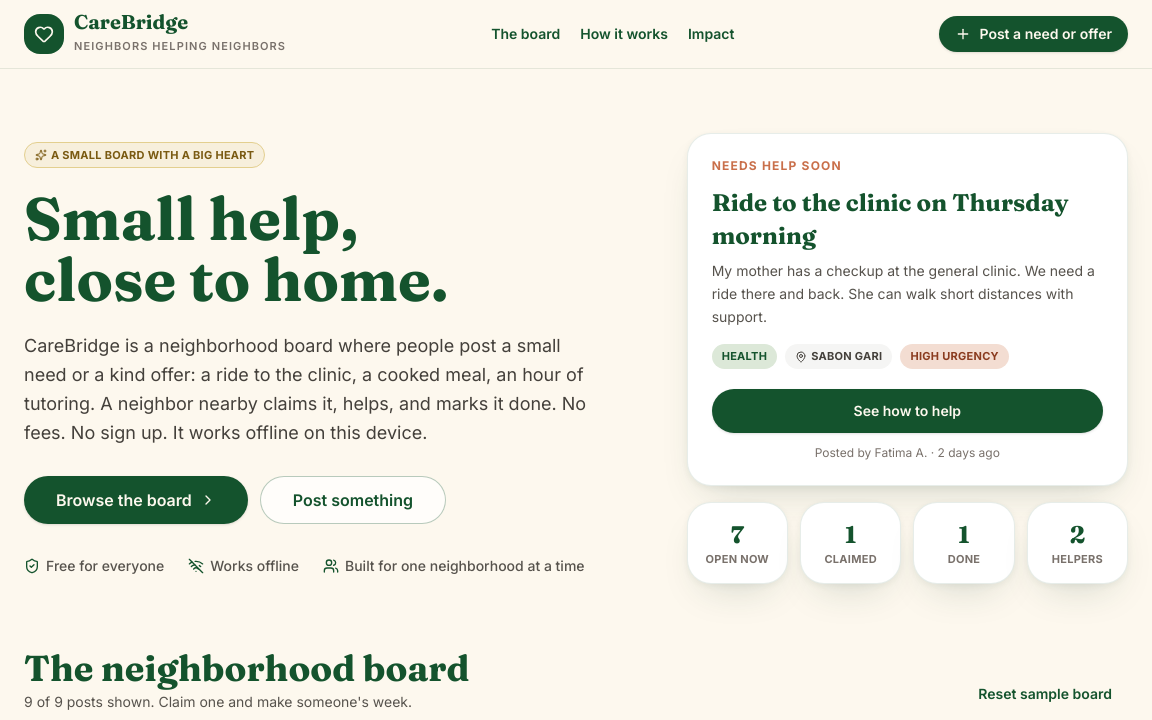
Test: CareBridge app › opens a detail dialog for a post
Click the button "See how to help" at (907,411), box [712,389,1103,433]
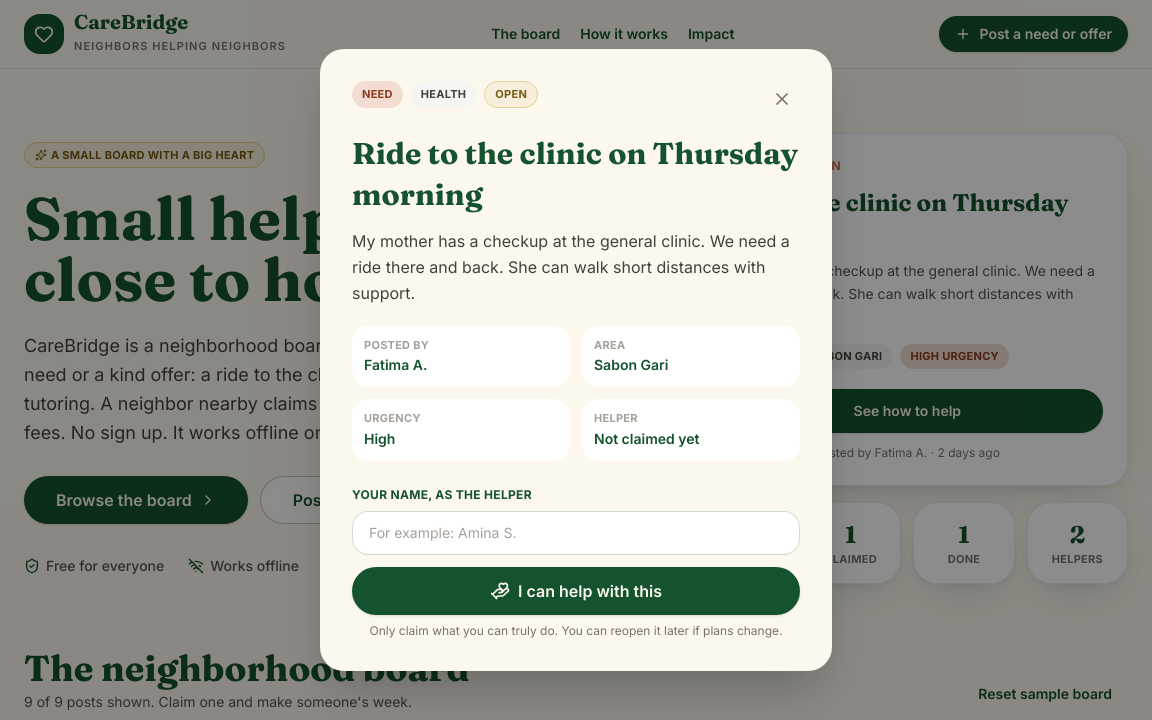
Expected: the dialog is shown
Expected: the button "I can help with this" is shown, [352,567,800,615]
